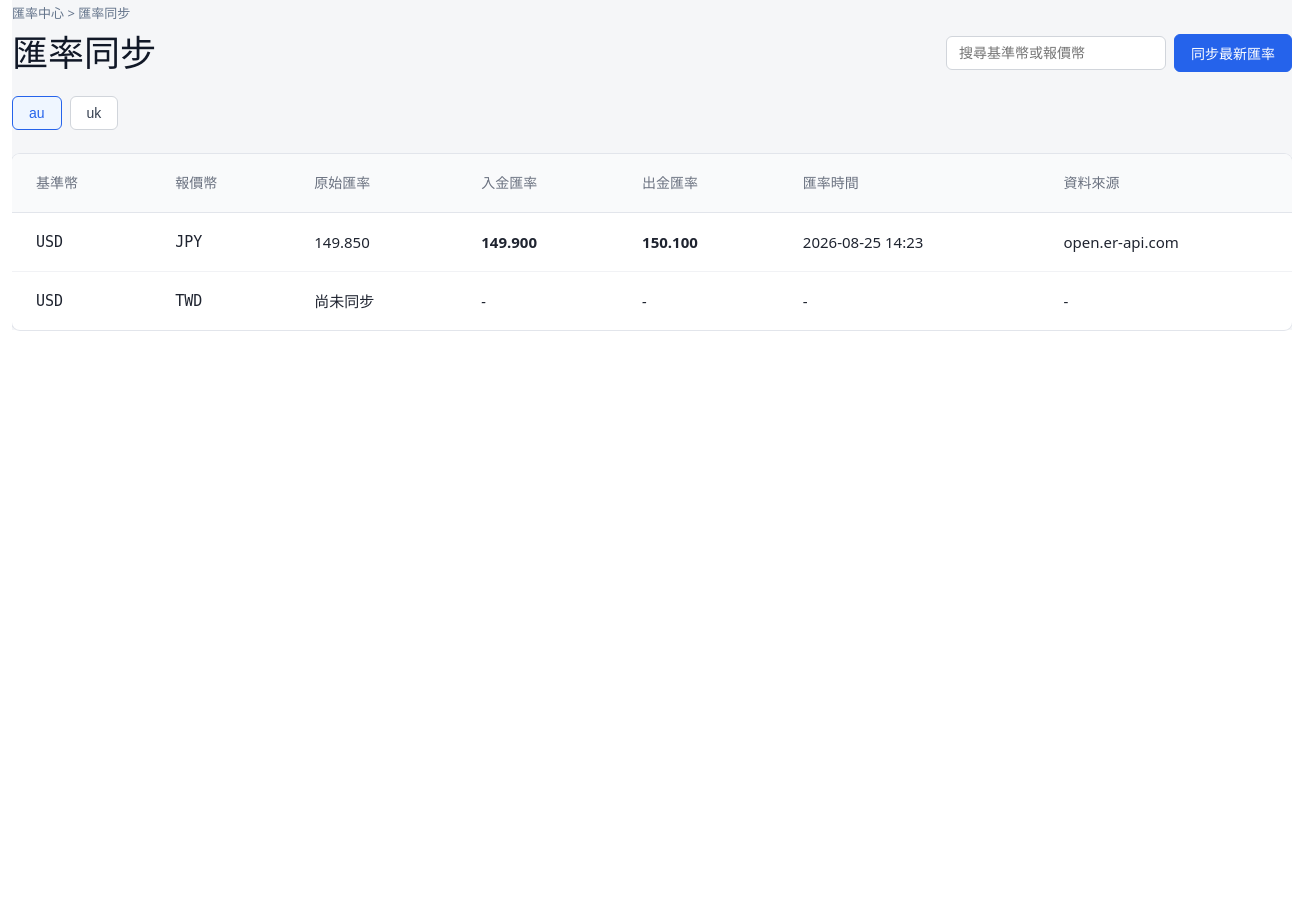
Test: ExchangeRateSyncPage › search input stays enabled during sync and cooldown
Step 1. Click the button "同步最新匯率" → (1233, 53), box x1=1174 y1=34 x2=1292 y2=72
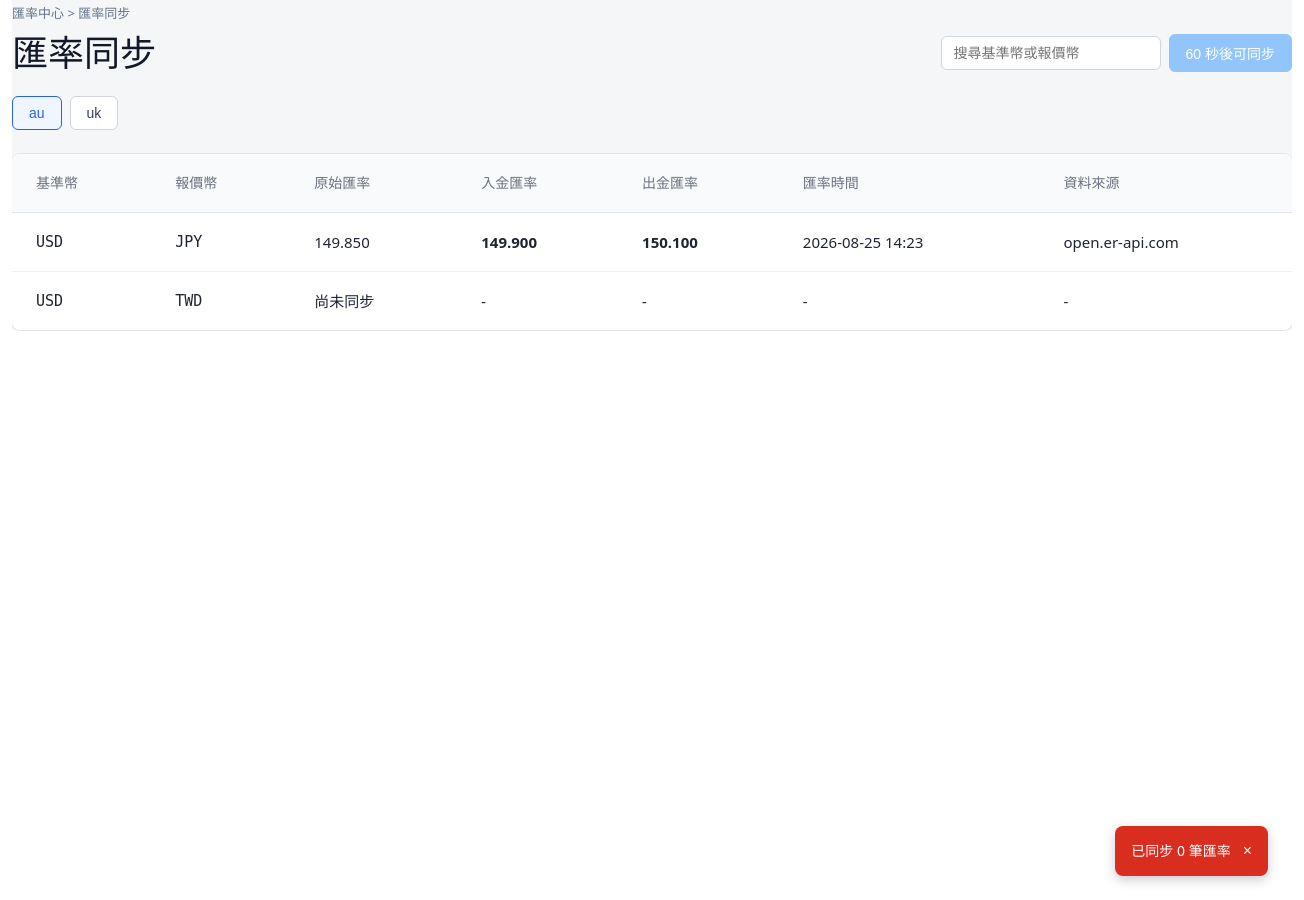
Check: the field labelled "搜尋基準幣或報價幣" is enabled, box x1=940 y1=36 x2=1160 y2=70
Check: the button "60 秒後可同步" is disabled, box x1=1168 y1=34 x2=1292 y2=72
